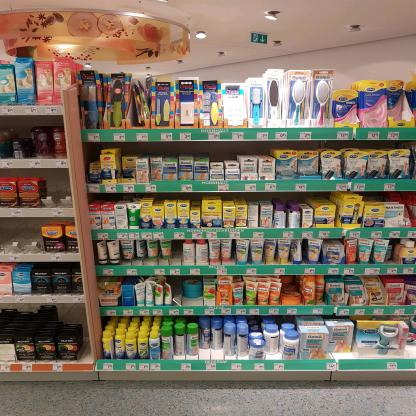Void: (4, 219, 40, 249), (214, 144, 271, 160), (46, 179, 72, 210), (62, 302, 82, 323), (285, 275, 299, 291), (171, 241, 180, 264)
